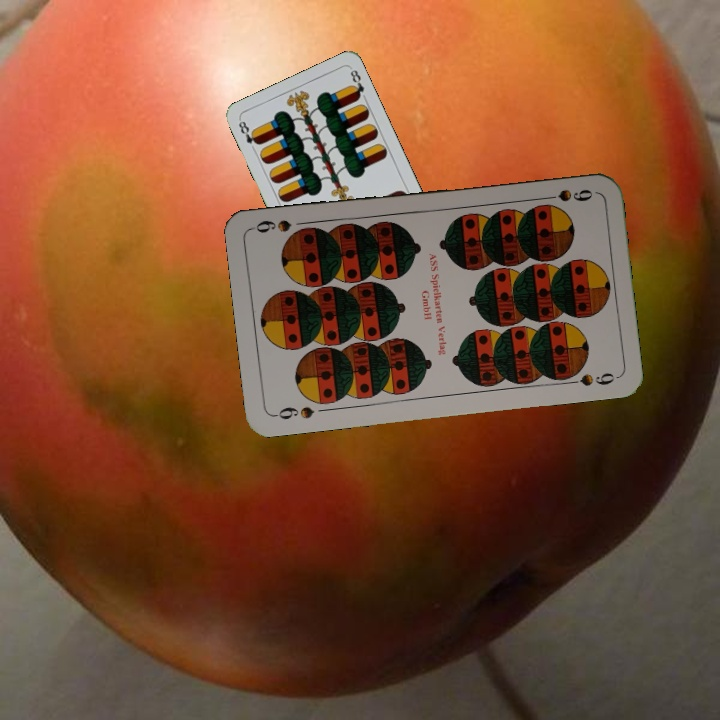E8: (234, 117, 262, 147)
S9: (537, 185, 596, 204), (270, 402, 317, 422)
